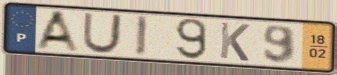9: (173, 17, 209, 61), (261, 24, 297, 66)
A: (32, 9, 83, 55)
I: (134, 14, 150, 59)
K: (218, 20, 252, 63)
U: (81, 12, 125, 56)
